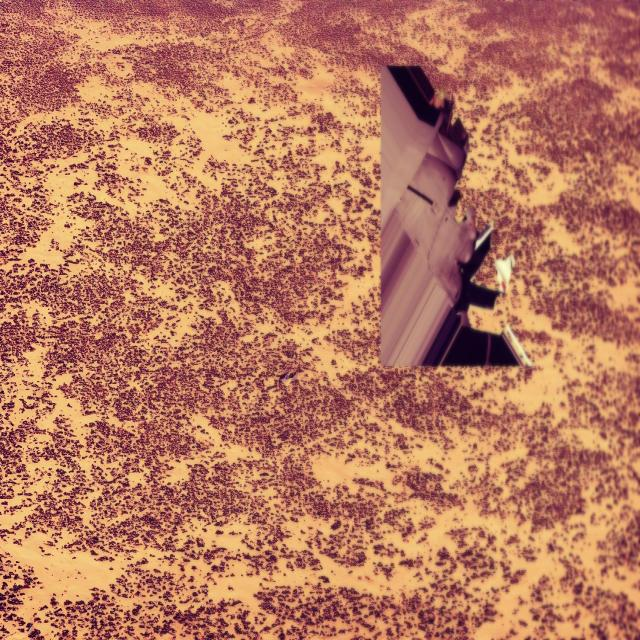airplane: (379, 63, 533, 369)
